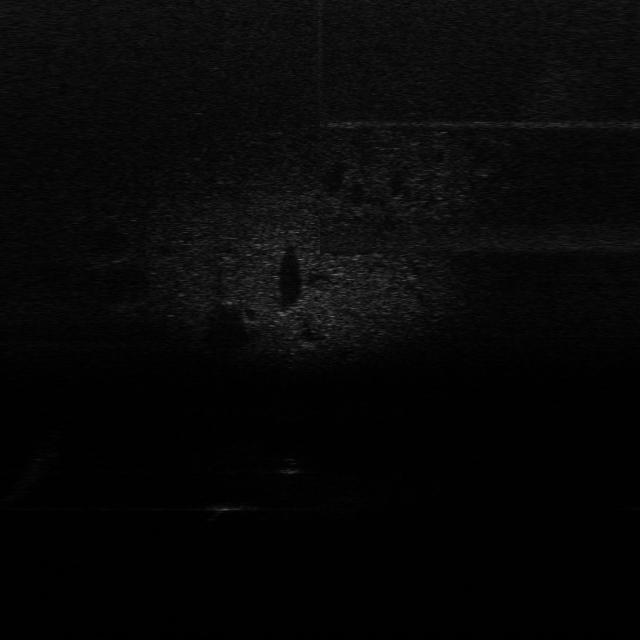ball: (274, 455, 304, 477)
square cage: (206, 496, 263, 520)
